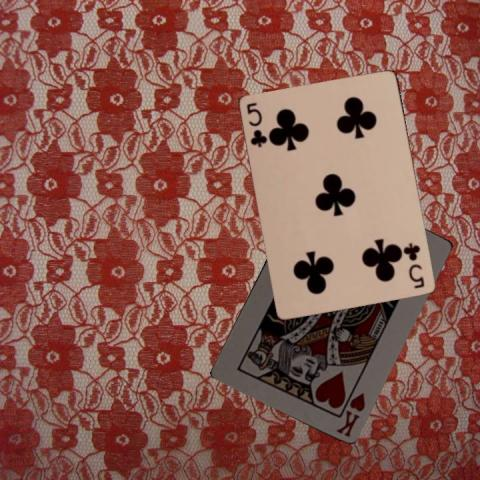5c: (244, 99, 270, 149), (403, 240, 426, 290)
Kh: (332, 389, 366, 438)
